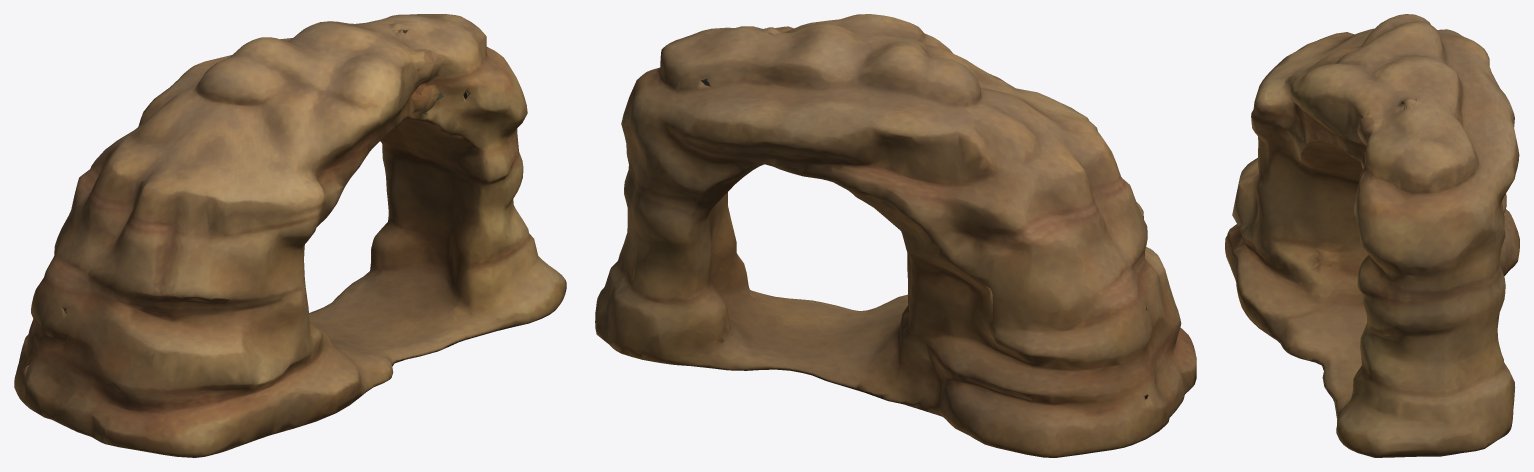
The picture shows the model from 3 angles, left to right: view 1: azimuth 30°, elevation 25°; view 2: azimuth 150°, elevation 25°; view 3: azimuth 270°, elevation 25°; orthographic projection. The views are drawn at different scales.
Parts seen in each view (by area): view 1: geometry_0; view 2: geometry_0; view 3: geometry_0.
Part boxes in pixels (bbox=[...]): geometry_0: bbox=[14, 14, 566, 457]; geometry_0: bbox=[595, 14, 1196, 457]; geometry_0: bbox=[1225, 14, 1519, 457].
Bounding box in the file's own units: 5.3 × 2.97 × 2.63.
1 material, 1 textured.
